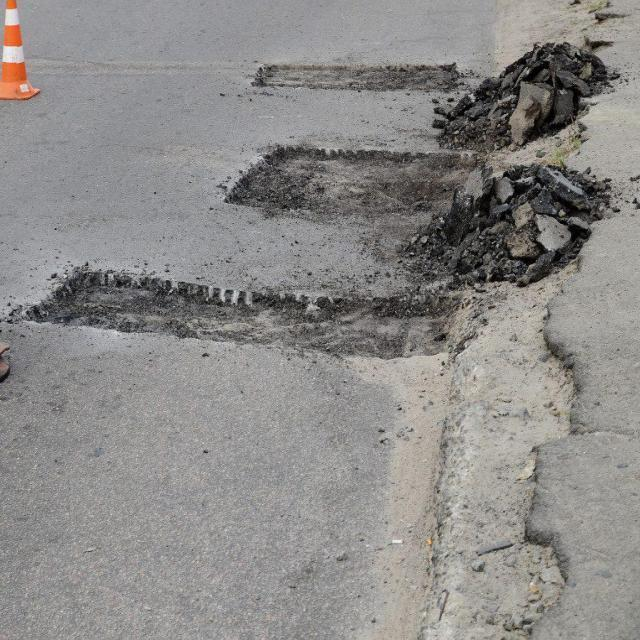Pothole: (18, 270, 466, 356), (221, 146, 483, 219), (251, 63, 461, 92)
